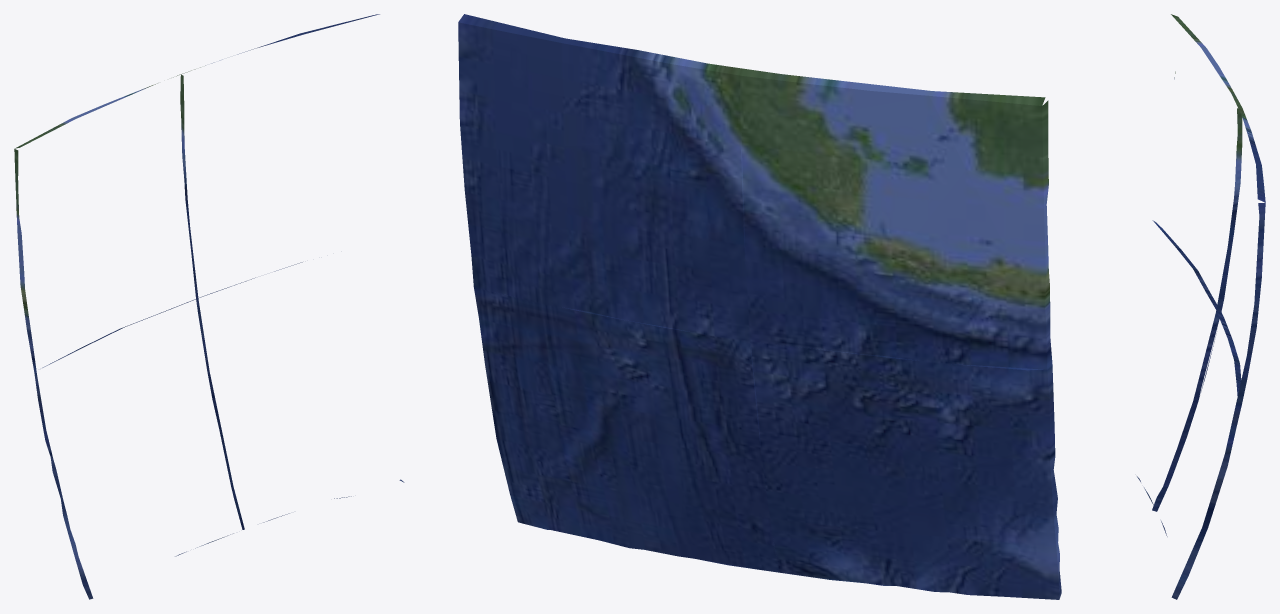
3 views of the same model, side by side, from view 1: azimuth 30°, elevation 25°; view 2: azimuth 150°, elevation 25°; view 3: azimuth 270°, elevation 25° (orthographic). The views are drawn at different scales.
Bounding box in the file's own units: 2467923 × 2456568 × 973543.
1 material, 1 textured.
